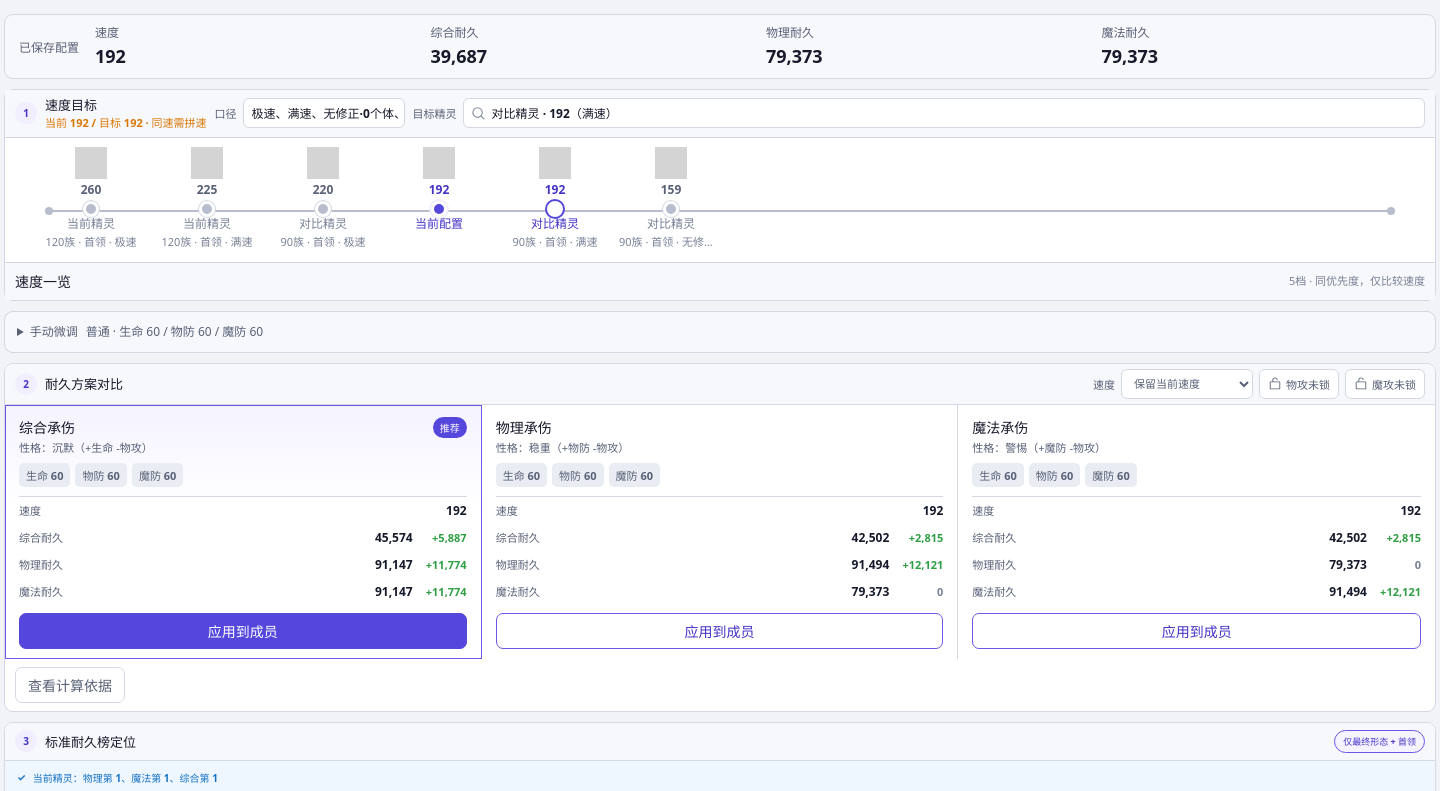
Test: 保存摘要和试算分开标注，速度一览沿用草稿状态且本体使用自己的头像
Click the text "手动微调": (54, 331) [30,323,78,340]
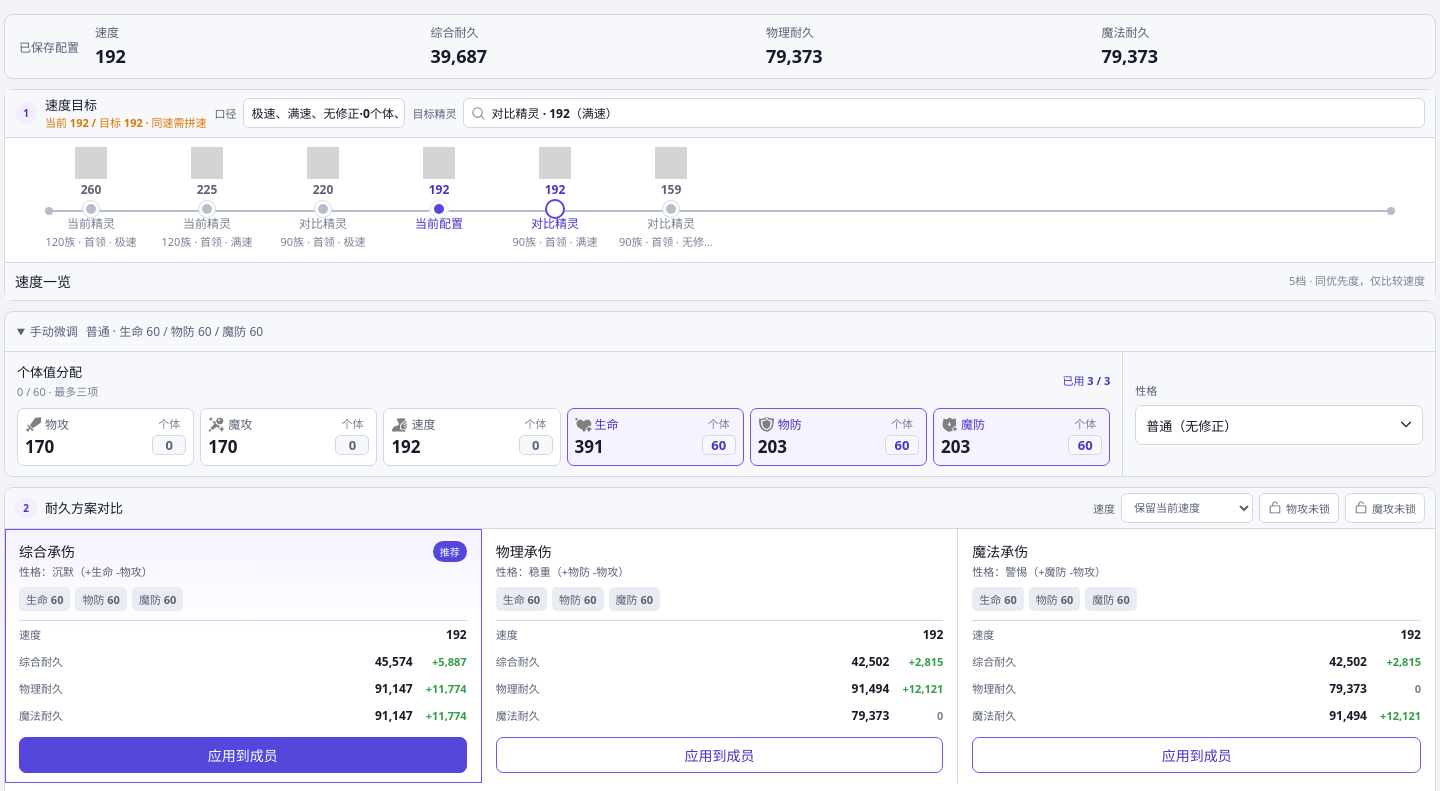
Click the dropdown named "能力分析性格": (1192, 426) [1135,405,1423,445]
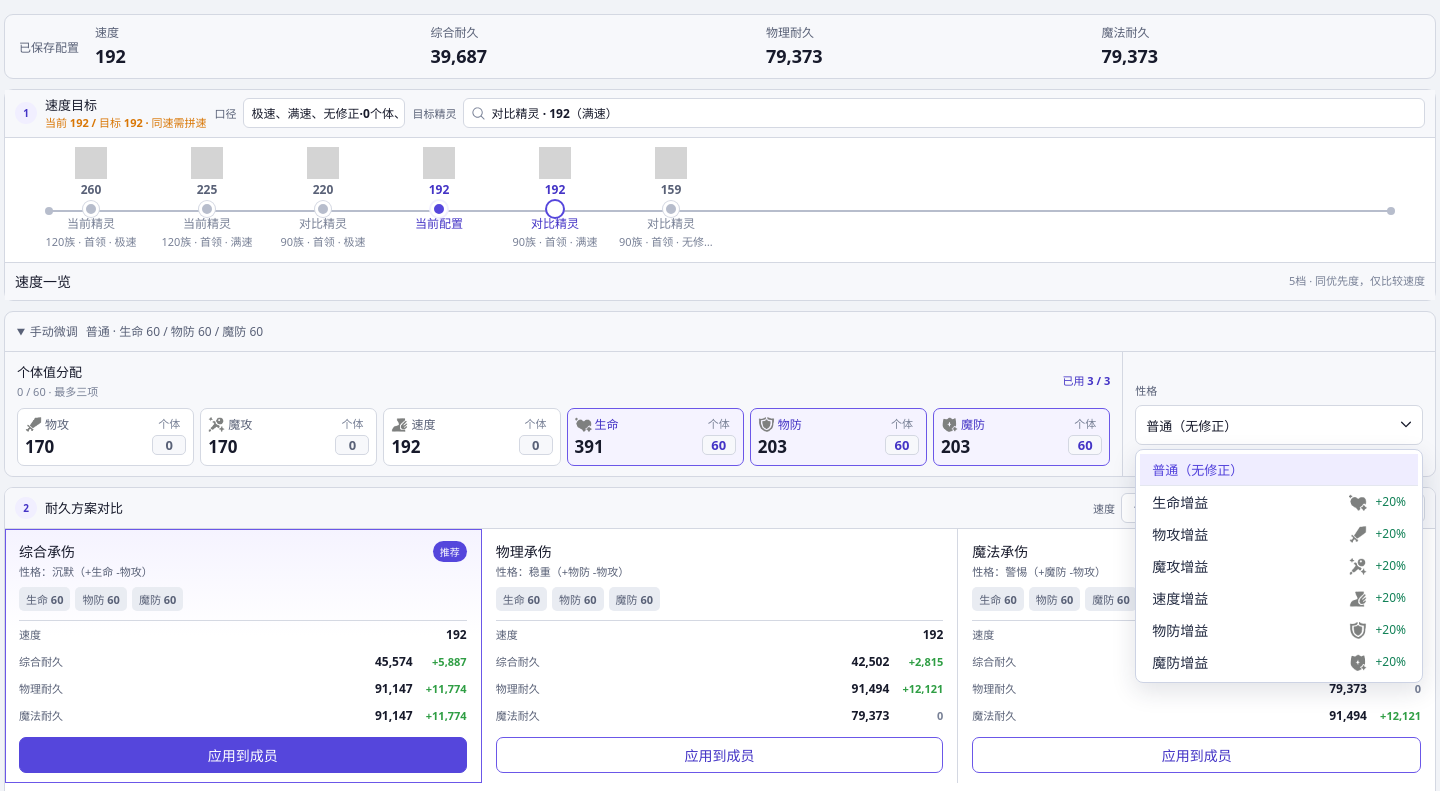
Click the list item "速度增益 +20%": (1180, 598) [1140,582,1418,614]
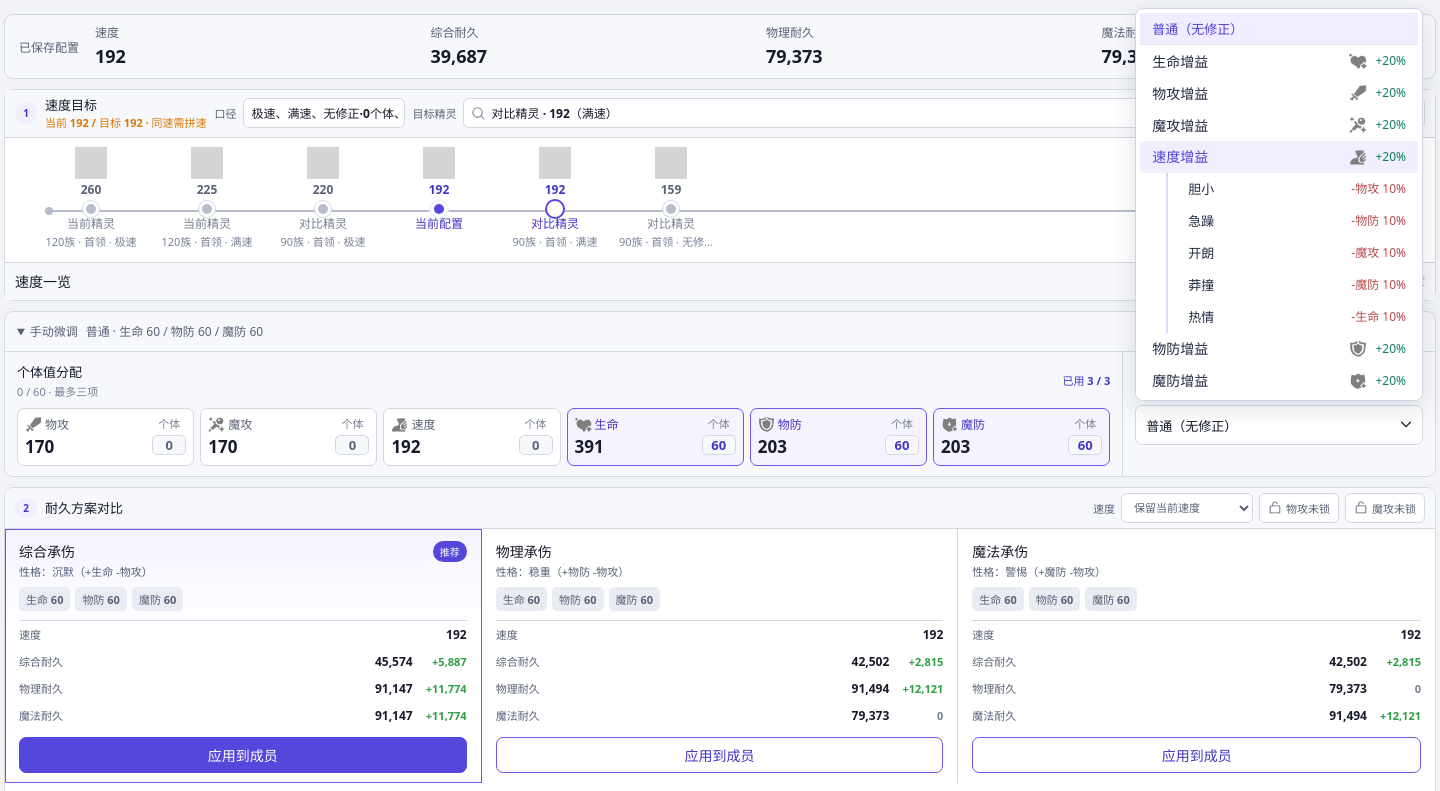
Click the list item with aria-label "胆小（+速度 -物攻）": (1297, 189) [1176,173,1418,205]
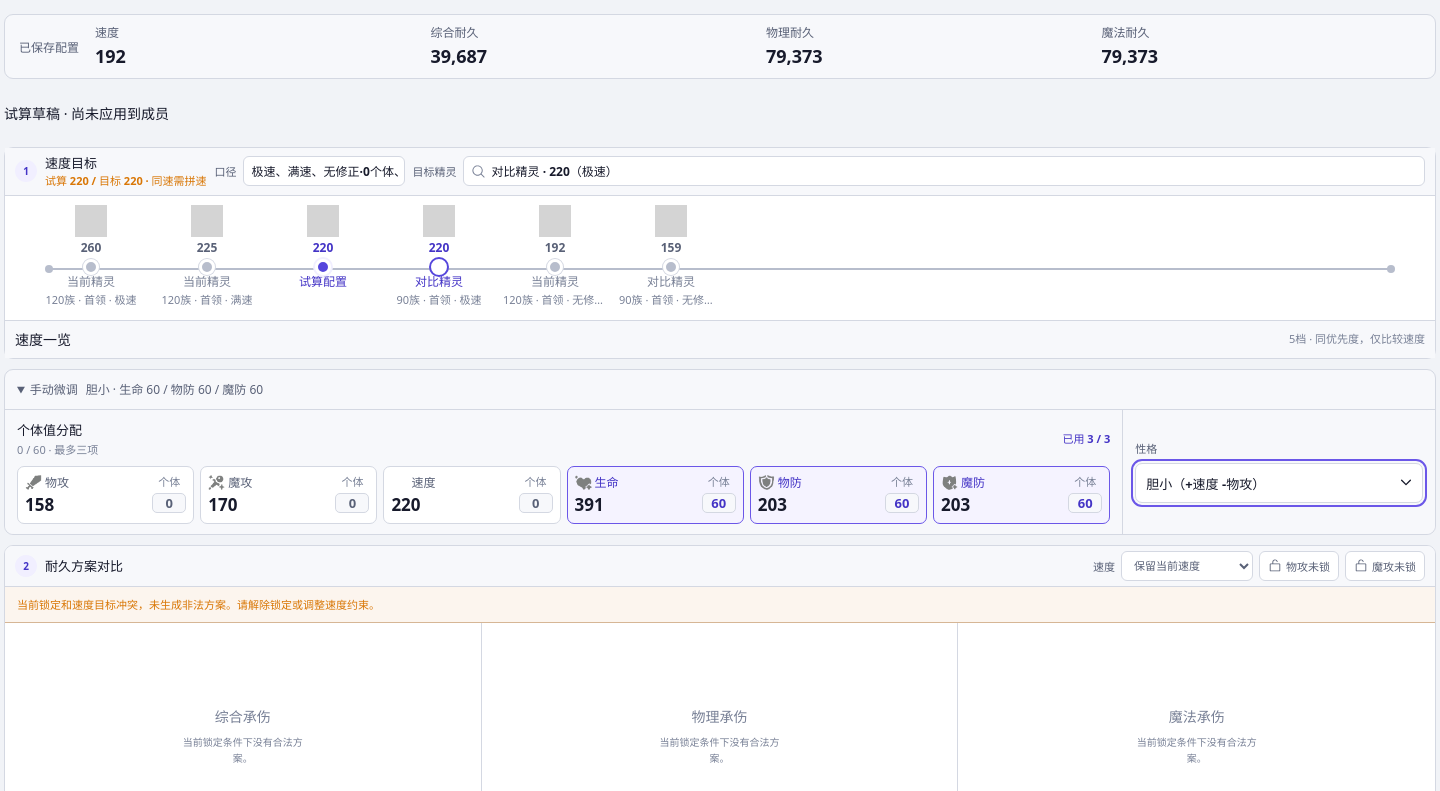
expect the list item with class "is-current" shows "试算配置": met, box [299,273,347,290]
expect the text with class "ability-speed__comparison" shows "试算 220": met, box [45,173,207,188]
Click the button "速度一览 5档 · 同优先度，仅比较速度": (43, 340) [5,320,1435,358]
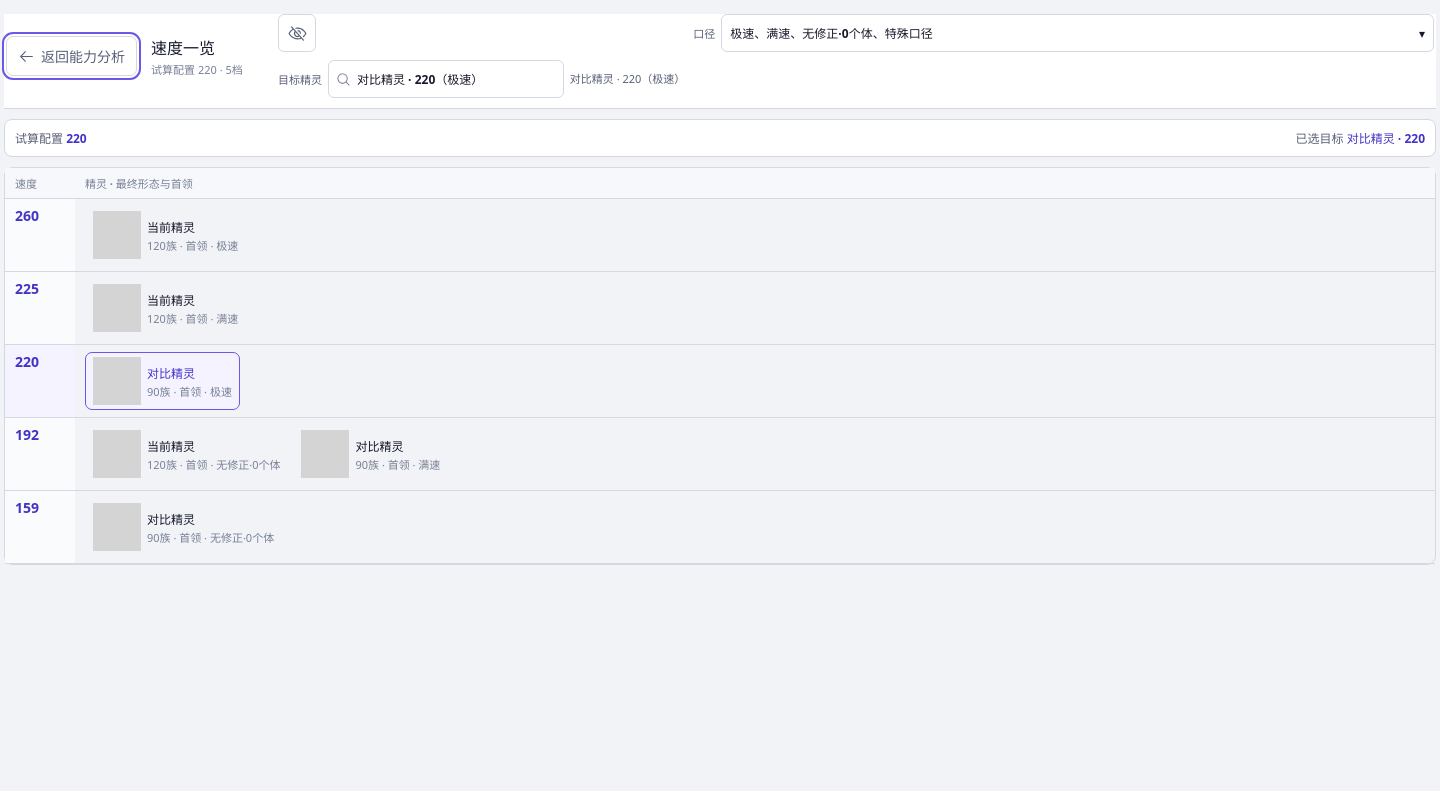
expect the element "速度一览" shows "试算配置 220": met, box [4,14,1436,157]
